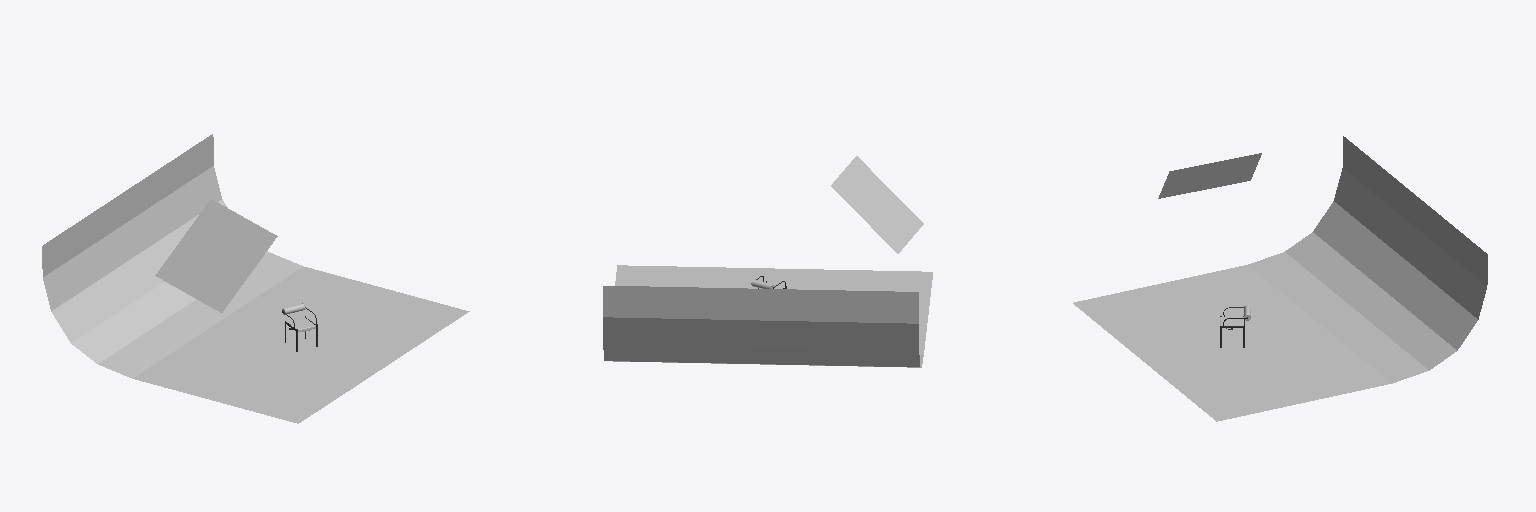
Rendered from chair_05.obj.
3 renders of one model, left to right at view 1: azimuth 30°, elevation 25°; view 2: azimuth 150°, elevation 25°; view 3: azimuth 270°, elevation 25°, orthographic.
Parts seen in each view (by area): view 1: Plane_Plane.001, Plane.002_Plane; view 2: Plane_Plane.001, Plane.002_Plane; view 3: Plane_Plane.001, Plane.002_Plane.
Boxes of the visible parts, x1=… form: Plane_Plane.001: x1=42, y1=134, x2=469, y2=423; Plane.002_Plane: x1=155, y1=199, x2=277, y2=312; Plane_Plane.001: x1=603, y1=265, x2=932, y2=367; Plane.002_Plane: x1=831, y1=156, x2=923, y2=253; Plane_Plane.001: x1=1073, y1=136, x2=1487, y2=421; Plane.002_Plane: x1=1158, y1=153, x2=1261, y2=198.
Bounding box in the file's own units: 145 × 58.61 × 144.